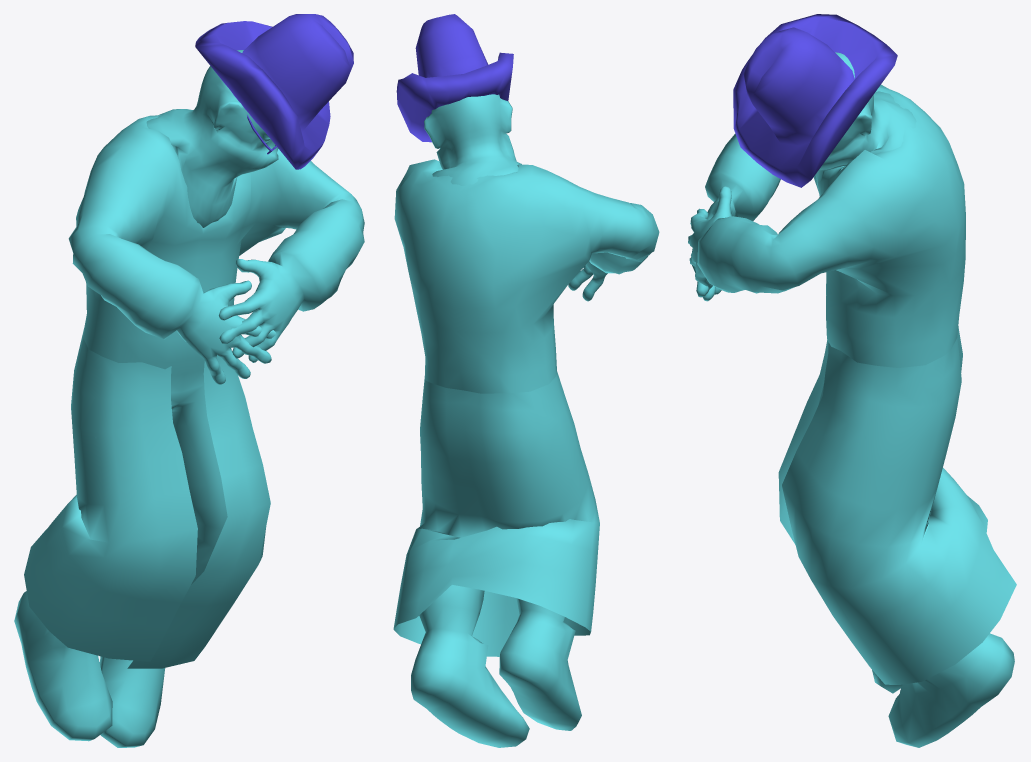
Rendered from Buddy_Piggy.fbx.
3 renders of one model, left to right at view 1: azimuth 30°, elevation 25°; view 2: azimuth 150°, elevation 25°; view 3: azimuth 270°, elevation 25°, orthographic. The views are drawn at different scales.
Parts seen in each view (by area): view 1: Buddy.002; view 2: Buddy.002; view 3: Buddy.002.
Part boxes in pixels (x1,y1,x2,y2): Buddy.002: (14,14,364,747); Buddy.002: (393,14,659,747); Buddy.002: (688,14,1016,747).
Bounding box in the file's own units: 0.6397 × 1.62 × 0.6266.
